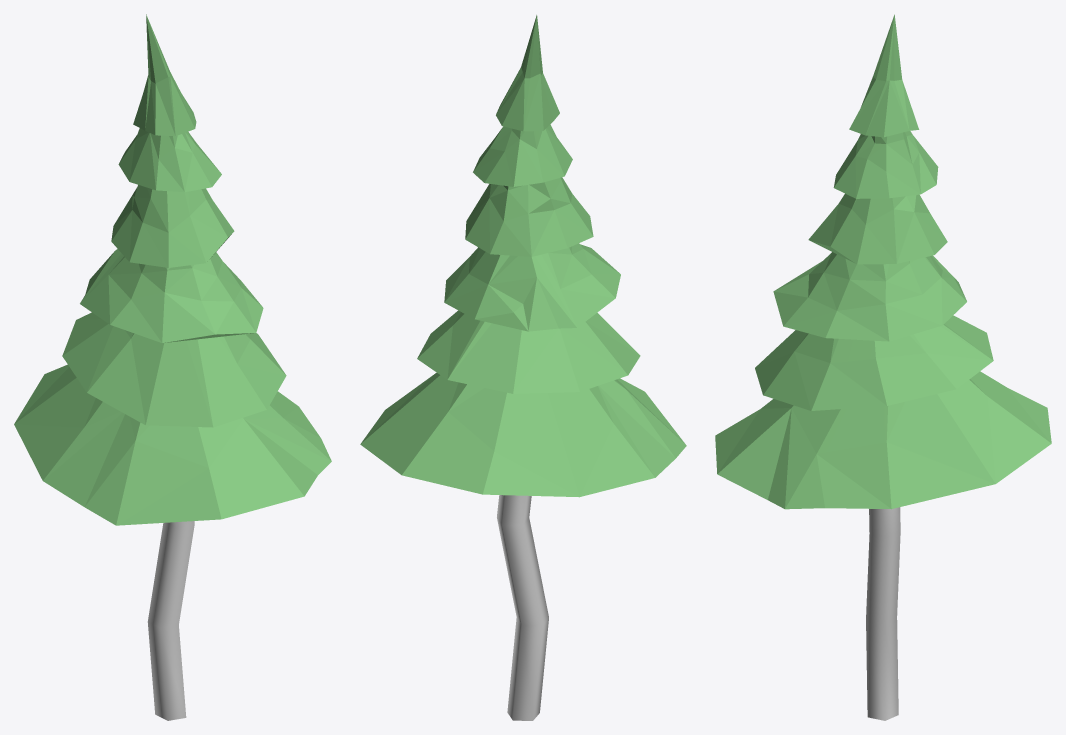
The model's file is Tree.FBX.
3 renders of one model, left to right at view 1: azimuth 30°, elevation 25°; view 2: azimuth 150°, elevation 25°; view 3: azimuth 270°, elevation 25°, orthographic. The views are drawn at different scales.
Parts seen in each view (by area): view 1: Tree, Cylinder; view 2: Tree, Cylinder; view 3: Tree, Cylinder.
Part boxes in pixels (<box>): Tree: <box>14,14,331,525</box>; Cylinder: <box>147,521,194,720</box>; Tree: <box>360,15,686,497</box>; Cylinder: <box>497,495,548,720</box>; Tree: <box>715,14,1051,509</box>; Cylinder: <box>866,507,900,720</box>.
Bounding box in the file's own units: 671 × 1719 × 759.
